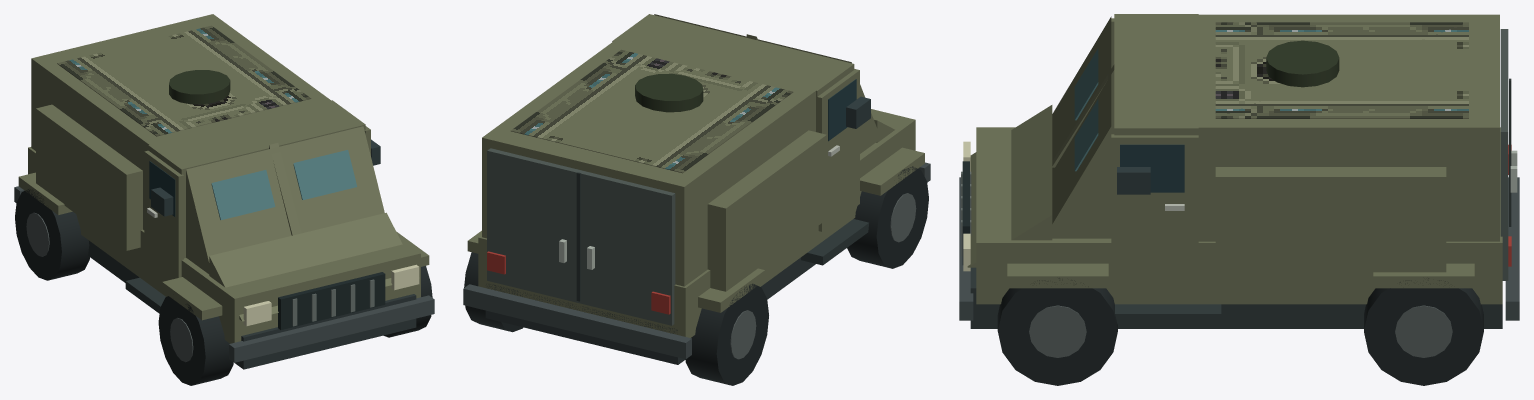
The model's file is CMU3DReduxVehicleSPPVanArmed.glb.
The picture shows the model from 3 angles, left to right: view 1: azimuth 30°, elevation 25°; view 2: azimuth 150°, elevation 25°; view 3: azimuth 270°, elevation 25°; orthographic projection. The views are drawn at different scales.
Visible parts, largest first — view 1: source roof livery, sloping cab frame, enclosed rear body, armored side storage, lower vehicle body, rubber road tire (×3), front hood, cab bulkhead, armored vision window (×2), bumper, cab door skin, sealed chassis (+9 smaller); view 2: rear double doors, enclosed rear body, source roof livery, armored side storage, rubber road tire (×3), cab bulkhead, lower vehicle body, bumper, cab door skin, wheel fender (×2), sealed chassis, roof gun mount (+6 smaller); view 3: enclosed rear body, armored side storage, source roof livery, lower vehicle body, rubber road tire (×2), cab door skin, cab bulkhead, sloping cab frame, front hood, sealed chassis, recessed metal wheel hub (×2), wheel fender (×2) (+9 smaller).
Boxes of the visible parts, box(x1,y1,x2,y2) form: source roof livery: box(57, 25, 311, 136); sloping cab frame: box(186, 126, 384, 276); enclosed rear body: box(31, 14, 330, 229); armored side storage: box(36, 104, 142, 250); lower vehicle body: box(28, 147, 420, 343); rubber road tire (×3): box(15, 189, 432, 385); front hood: box(209, 212, 402, 321); cab bulkhead: box(148, 100, 365, 258); armored vision window (×2): box(211, 150, 357, 219); bumper: box(229, 295, 434, 362); cab door skin: box(144, 150, 183, 284); sealed chassis: box(88, 240, 416, 369); rear double doors: box(487, 148, 675, 325); enclosed rear body: box(482, 37, 821, 286); source roof livery: box(511, 49, 793, 173); armored side storage: box(707, 130, 826, 291); rubber road tire (×3): box(464, 166, 928, 385); cab bulkhead: box(612, 14, 854, 131); lower vehicle body: box(478, 109, 915, 337); bumper: box(463, 284, 691, 359); cab door skin: box(816, 69, 859, 231); wheel fender (×2): box(698, 147, 924, 312); sealed chassis: box(485, 257, 815, 364); roof gun mount: box(635, 73, 703, 112); enclosed rear body: box(1184, 14, 1499, 241); armored side storage: box(1215, 167, 1446, 273); source roof livery: box(1215, 22, 1468, 118); lower vehicle body: box(976, 127, 1502, 304); rubber road tire (×2): box(997, 278, 1483, 385); cab door skin: box(1111, 134, 1198, 290); cab bulkhead: box(1114, 14, 1198, 135); sloping cab frame: box(1045, 16, 1111, 238); front hood: box(967, 105, 1052, 267); sealed chassis: box(970, 267, 1502, 328); recessed metal wheel hub (×2): box(1029, 305, 1452, 357); wheel fender (×2): box(1007, 263, 1474, 288).
Size of the model in its own units: 1.79 by 1.52 by 2.99.
20 materials, 1 textured.
